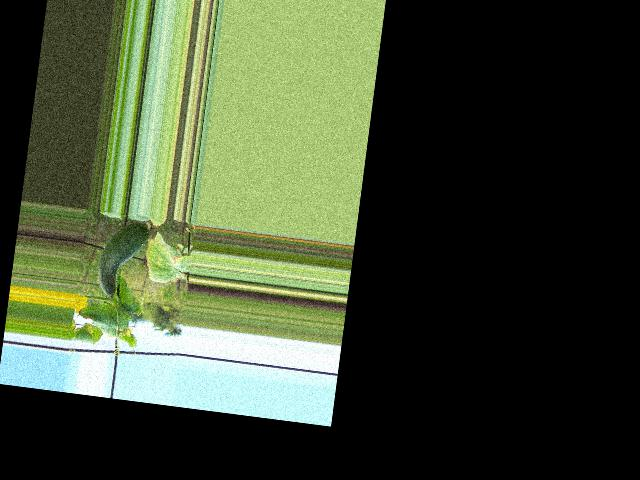cucumber: (94, 218, 151, 300)
